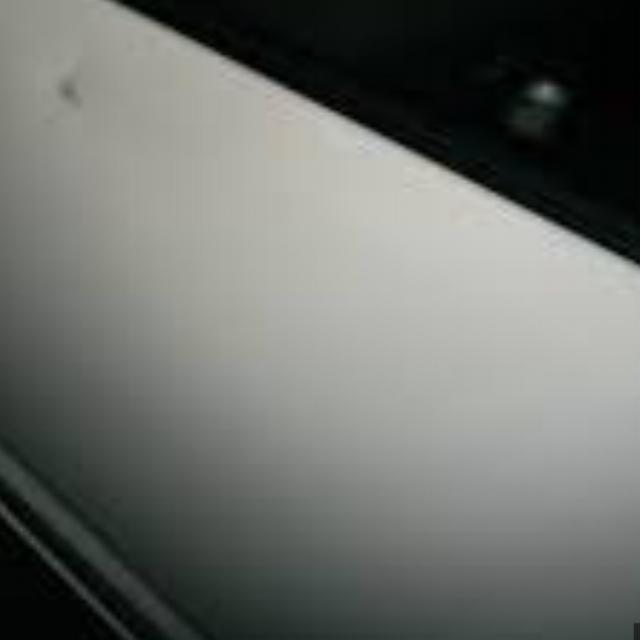dents: (36, 67, 154, 149)
